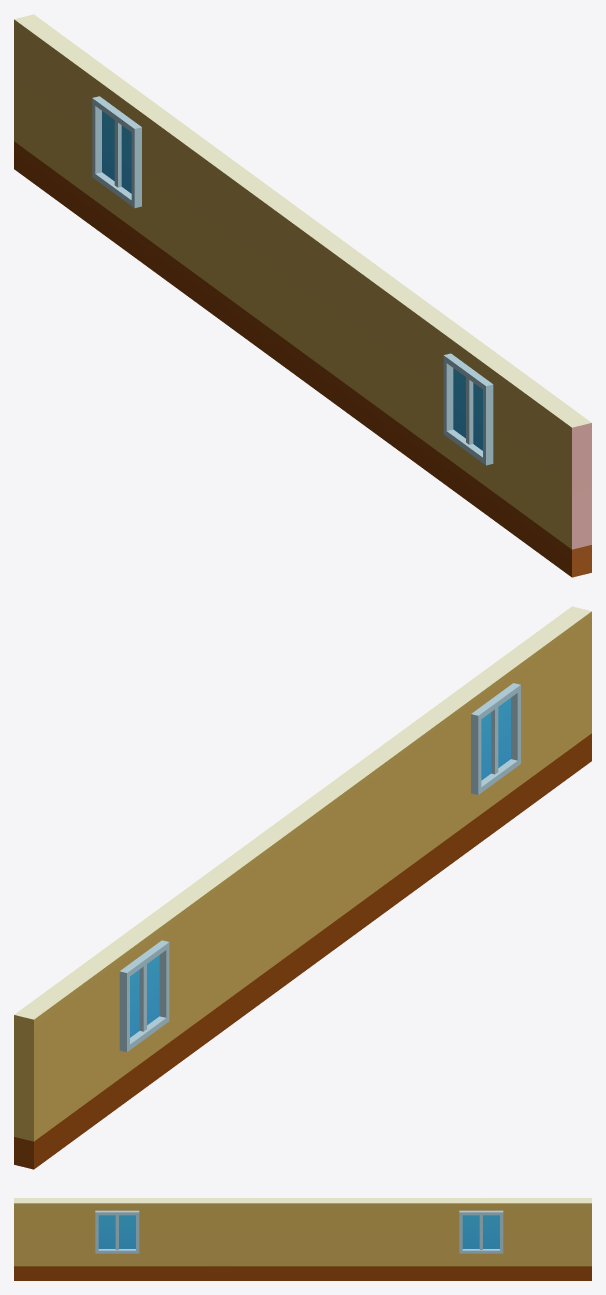
The model's file is Tuong phai 2.002.gltf.
The picture shows the model from 3 angles, top to bottom: view 1: azimuth 30°, elevation 25°; view 2: azimuth 150°, elevation 25°; view 3: azimuth 270°, elevation 25°; orthographic projection. The views are drawn at different scales.
Visible parts, largest first — view 1: Tuong phai 2.002; view 2: Tuong phai 2.002; view 3: Tuong phai 2.002.
Part boxes in pixels (x1,y1,x2,y2): Tuong phai 2.002: (14,14,591,577); Tuong phai 2.002: (14,606,591,1169); Tuong phai 2.002: (14,1198,591,1280).
Bounding box in the file's own units: 2.09 × 8.61 × 58.07.
1 material, 1 textured.
